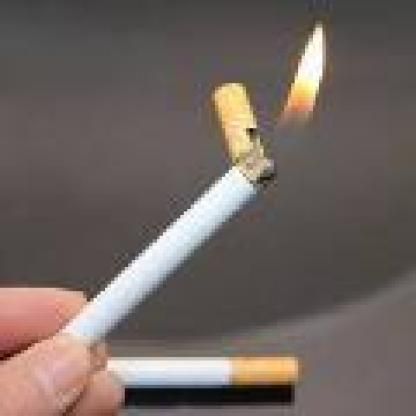Fire: (279, 24, 331, 122)
